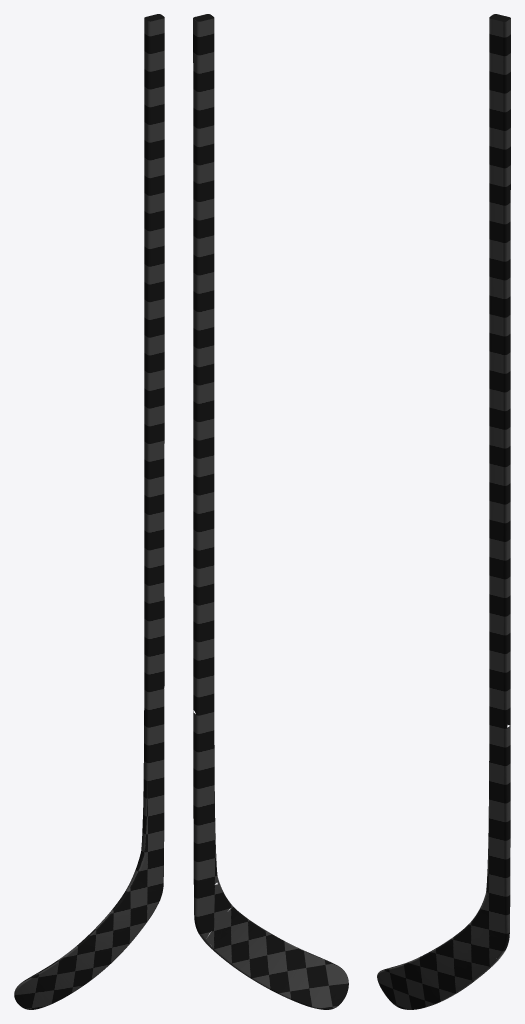
File: P29-1-4-ST-LIE8_0.glb
3 renders of one model, left to right at view 1: azimuth 30°, elevation 25°; view 2: azimuth 210°, elevation 25°; view 3: azimuth 330°, elevation 25°, orthographic. The views are drawn at different scales.
Visible parts, largest first — view 1: geometry_0; view 2: geometry_0; view 3: geometry_0.
Part boxes in pixels (x1=…): geometry_0: x1=14, y1=14, x2=164, y2=1009; geometry_0: x1=193, y1=14, x2=348, y2=1009; geometry_0: x1=377, y1=14, x2=510, y2=1009.
Bounding box in the file's own units: 242 × 1650 × 54.72.
1 material, 1 textured.
